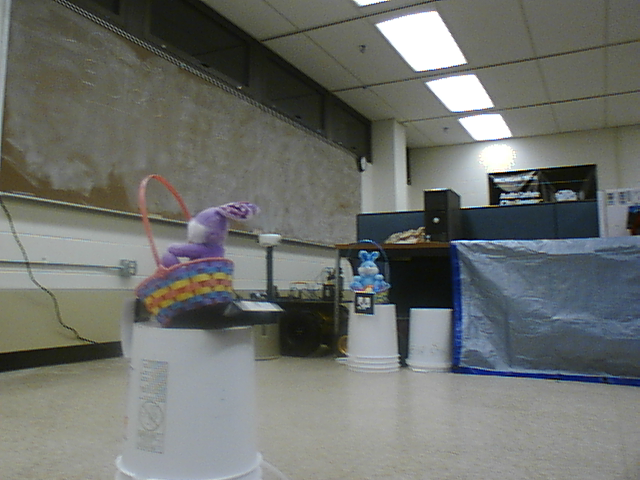bunny: (128, 167, 259, 325), (346, 239, 398, 309)
